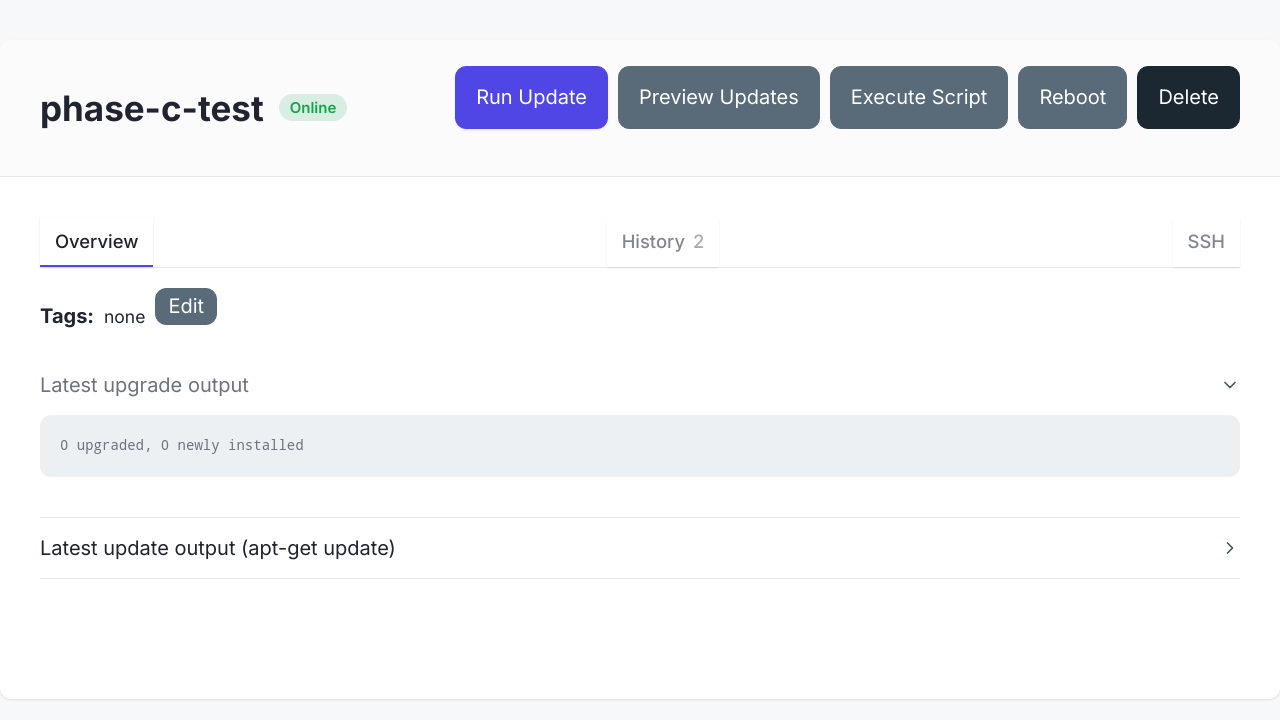
Scenario: HostDetail › renders run history when the History tab is selected
Check: the heading "phase-c-test" is shown, box [40,81,264,135]
Click the tab "History2" at [663, 242], box [607,217,719,267]
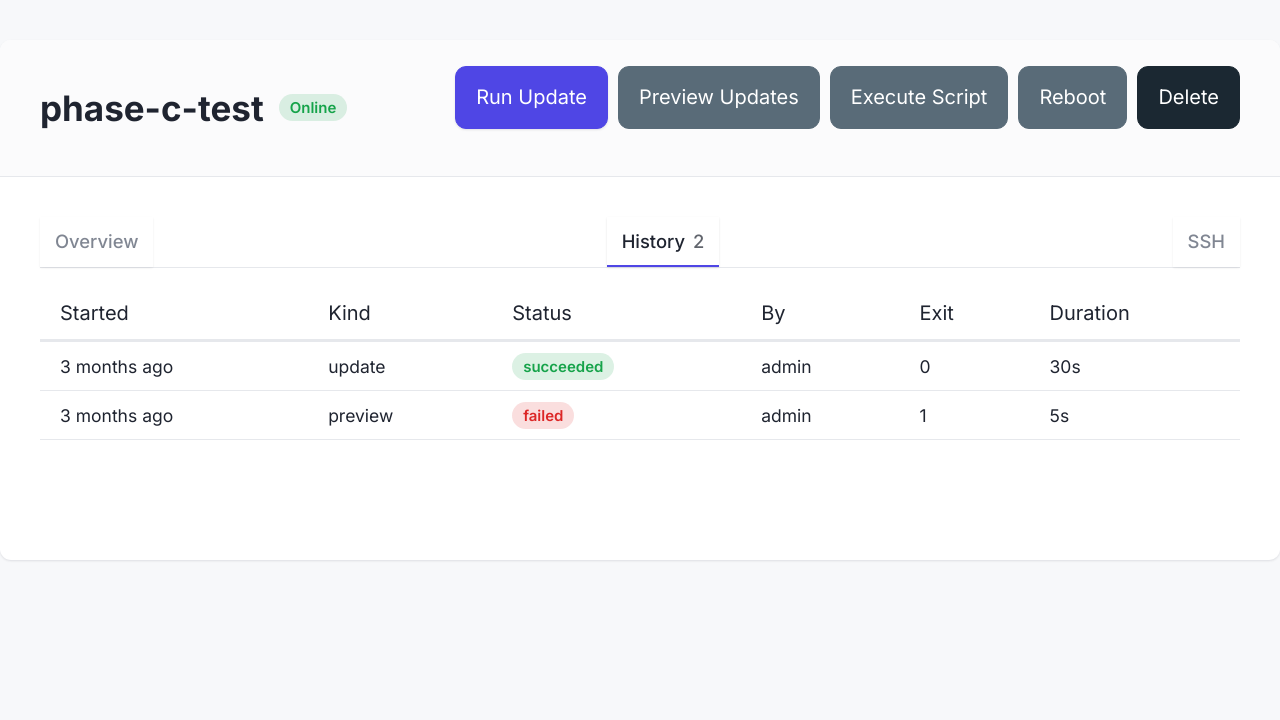
Check: the text "succeeded" is shown, box [512,353,614,380]
Check: the text "failed" is shown, box [512,402,574,429]
